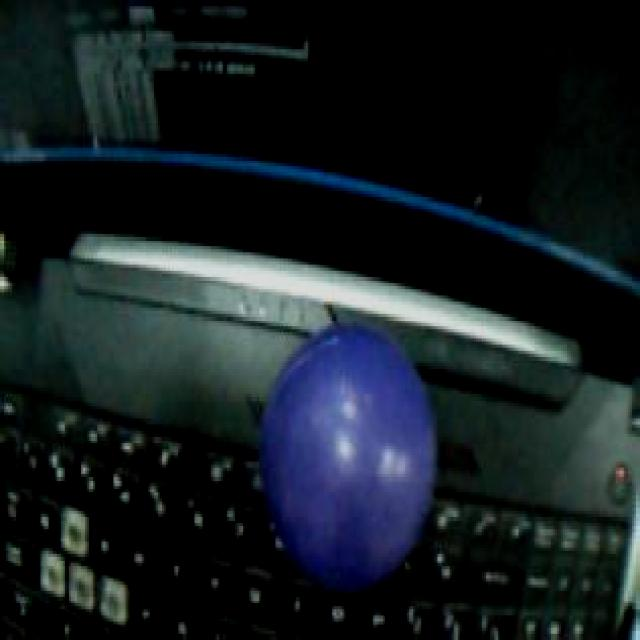BallPurple: (259, 327, 436, 593)
